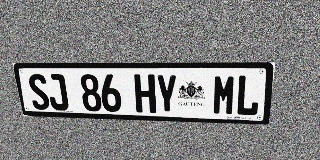6: (99, 74, 122, 112)
8: (79, 74, 102, 111)
H: (134, 74, 156, 113)
J: (45, 74, 69, 110)
L: (235, 75, 261, 116)
M: (212, 75, 237, 115)
S: (27, 74, 51, 110)
Y: (155, 74, 177, 114)
